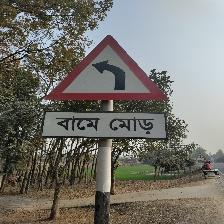Left-Turn: (40, 35, 171, 142)
